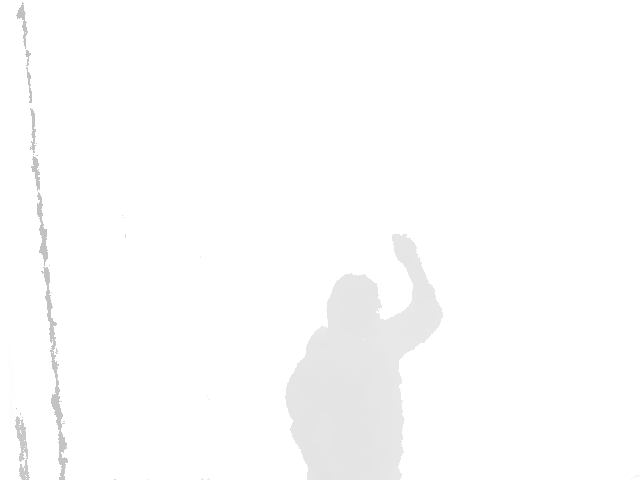hand: (391, 234, 421, 271)
head: (326, 274, 382, 339)
person: (284, 234, 444, 480)
